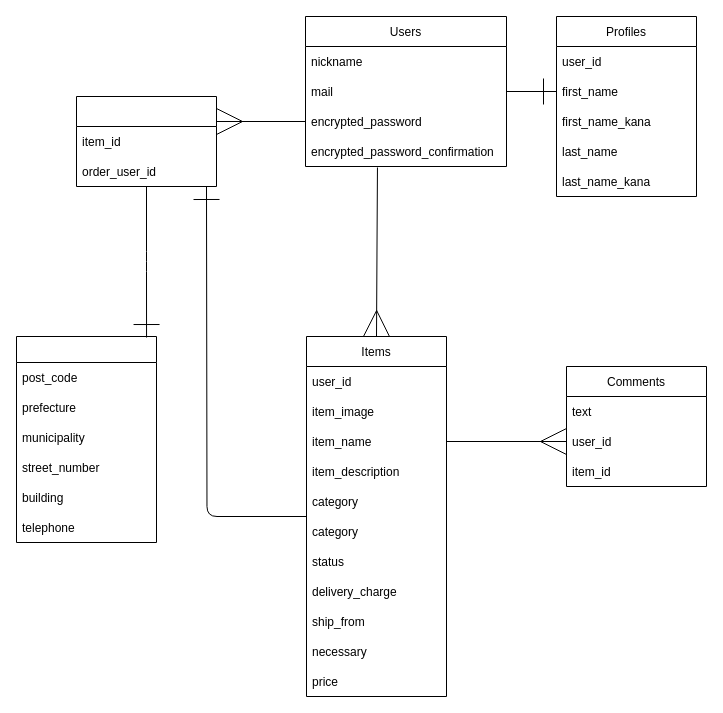
Image size: 723x713. Some labels were removed from this diagram. Each missing label, with the box of its shape:
Orders: (76, 96, 216, 186)
shipping_adress: (16, 336, 156, 542)
